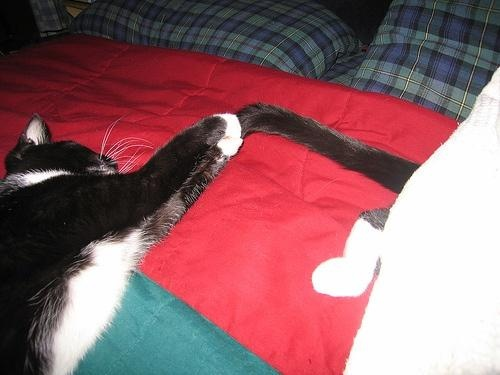cat: (2, 101, 245, 375)
